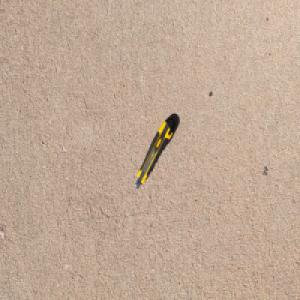Cutter: (134, 115, 176, 190)
